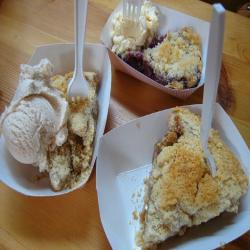apple_pie: (134, 115, 241, 249)
icecream: (11, 66, 64, 173)
